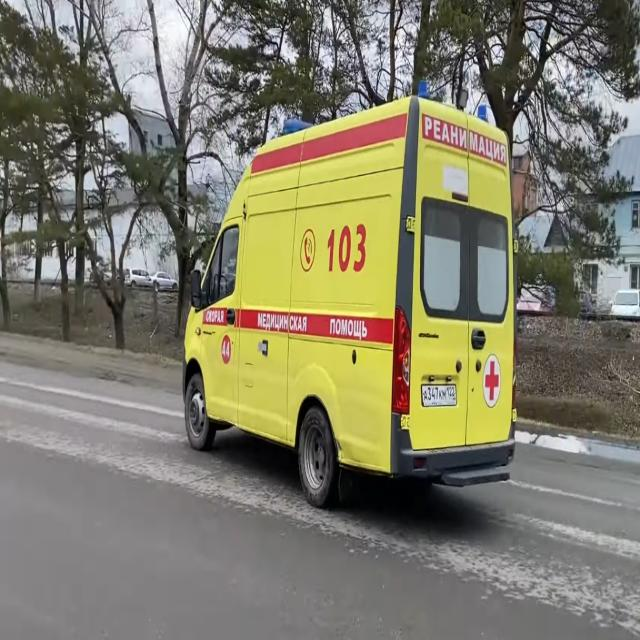intensive care unit: (183, 82, 518, 509)
